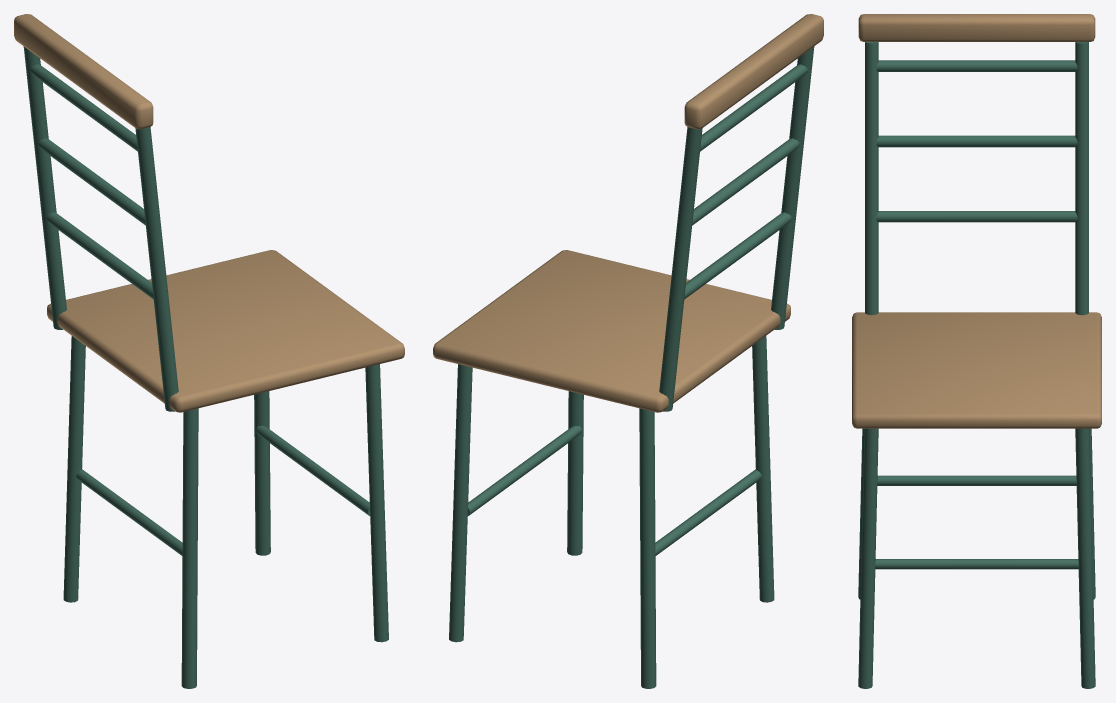
File: cafe_chair.glb
The picture shows the model from 3 angles, left to right: view 1: azimuth 30°, elevation 25°; view 2: azimuth 150°, elevation 25°; view 3: azimuth 270°, elevation 25°; orthographic projection. The views are drawn at different scales.
Parts seen in each view (by area): view 1: seat, back_top, leg-0.14-0.16, back_post-0.16, leg+0.16-0.16, leg-0.14+0.16, back_post+0.16, leg+0.16+0.16, back_bar0.86, back_bar0.74, back_bar0.62, stretch_f (+1 smaller); view 2: seat, back_top, leg-0.14+0.16, back_post+0.16, leg+0.16+0.16, leg-0.14-0.16, back_post-0.16, leg+0.16-0.16, back_bar0.86, back_bar0.74, back_bar0.62, stretch_f (+1 smaller); view 3: seat, back_top, leg+0.16+0.16, leg+0.16-0.16, back_post+0.16, back_post-0.16, back_bar0.74, back_bar0.62, back_bar0.86, stretch_f, stretch_b, leg-0.14+0.16 (+1 smaller).
Boxes of the visible parts, x1,y1,x2,y2 form: seat: (47,250,404,412); back_top: (14,14,153,129); leg-0.14-0.16: (181,408,198,688); back_post-0.16: (135,127,178,411); leg+0.16-0.16: (365,364,388,642); leg-0.14+0.16: (63,336,85,602); back_post+0.16: (23,46,66,329); leg+0.16+0.16: (254,391,270,555); back_bar0.86: (30,64,137,151); back_bar0.74: (38,138,145,225); back_bar0.62: (46,212,153,299); stretch_f: (256,425,370,515); seat: (433,250,790,412); back_top: (684,14,823,129); leg-0.14+0.16: (639,408,656,688); back_post+0.16: (659,127,702,411); leg+0.16+0.16: (449,364,472,642); leg-0.14-0.16: (752,336,774,602); back_post-0.16: (771,46,814,329); leg+0.16-0.16: (567,391,583,555); back_bar0.86: (700,64,807,151); back_bar0.74: (692,138,799,225); back_bar0.62: (684,212,791,299); stretch_f: (467,425,581,515); seat: (852,312,1101,428); back_top: (858,14,1095,41); leg+0.16+0.16: (1075,428,1095,688); leg+0.16-0.16: (858,428,878,688); back_post+0.16: (1075,42,1088,315); back_post-0.16: (865,42,878,315); back_bar0.74: (876,135,1077,147); back_bar0.62: (876,211,1077,222); back_bar0.86: (876,60,1077,71); stretch_f: (875,559,1078,569); stretch_b: (877,475,1076,485); leg-0.14+0.16: (1089,428,1095,599).
Size of the model in its own units: 0.44 by 0.9403 by 0.38.
